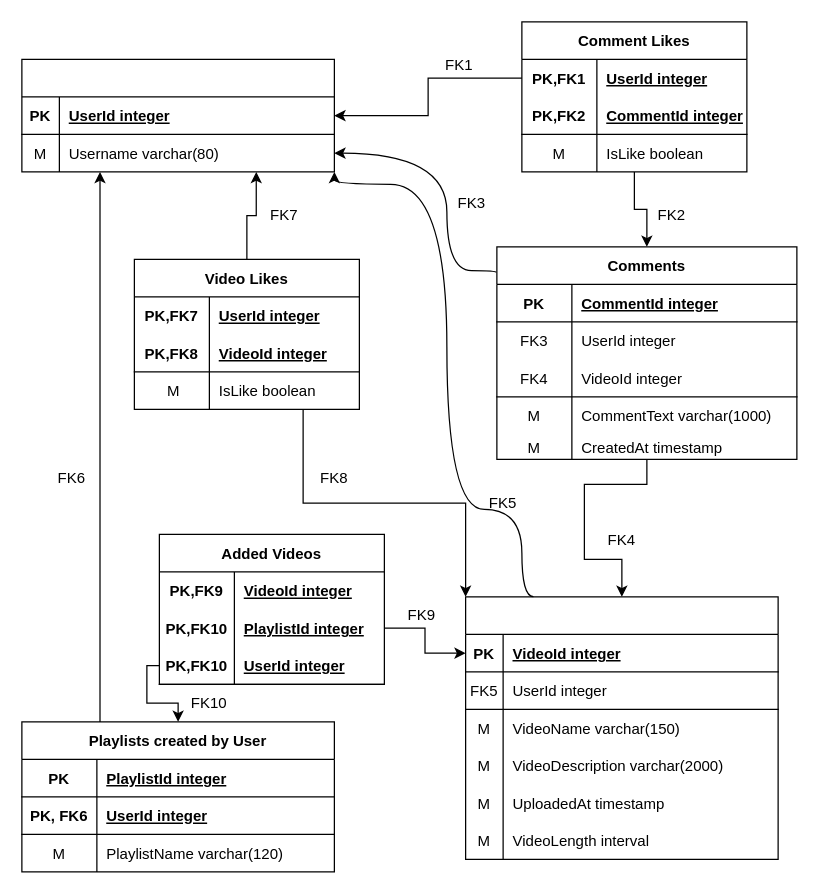
Some shapes in this 819 by 894 pixel diagram are drawn without their labels. The shapes that lost their labels are listed below. From the top down, each one's box as (x1, y1, x2, y2) in pixels, then its label:
(21, 58, 334, 172): Users
(464, 596, 778, 859): Videos
